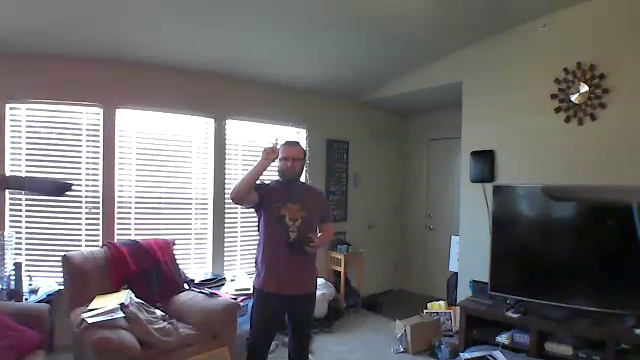up: (261, 136, 283, 165)
